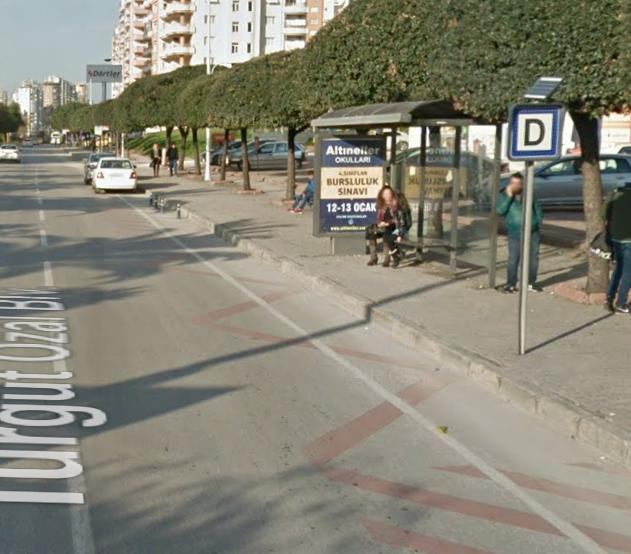station: (511, 107, 557, 158)
